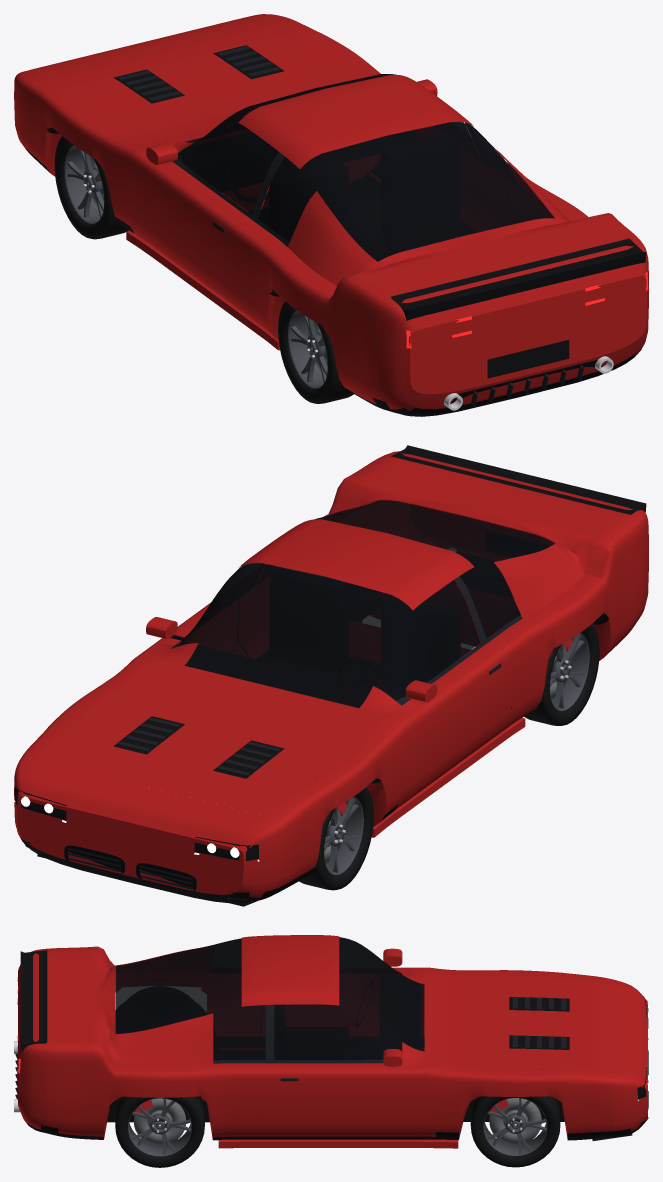
3 renders of one model, top to bottom at view 1: azimuth 30°, elevation 25°; view 2: azimuth 150°, elevation 25°; view 3: azimuth 270°, elevation 25°, orthographic. The views are drawn at different scales.
Visible parts, largest first — view 1: body, glass, hood, bumper_front, bumper_rear, spoiler, wheel_RL, wheel_FL, interior_low, skirts; view 2: body, glass, hood, bumper_front, wheel_RL, wheel_FL, spoiler, interior_low, bumper_rear, skirts; view 3: body, glass, hood, bumper_front, wheel_FR, wheel_RR, bumper_rear, skirts, spoiler, brake_FR, brake_RR, interior_low.
Part boxes in pixels (x1,y1,x2,y2): body: (18, 16, 638, 412); glass: (178, 74, 553, 261); hood: (40, 19, 362, 146); bumper_front: (14, 14, 646, 394); bumper_rear: (377, 238, 648, 416); spoiler: (391, 238, 646, 320); wheel_RL: (278, 301, 353, 403); wheel_FL: (54, 136, 128, 239); interior_low: (177, 129, 459, 259); skirts: (126, 172, 379, 350); body: (21, 456, 643, 894); glass: (177, 500, 554, 708); hood: (40, 659, 387, 815); bumper_front: (14, 503, 555, 906); wheel_RL: (524, 623, 599, 725); wheel_FL: (299, 787, 373, 890); spoiler: (391, 445, 646, 514); interior_low: (176, 566, 460, 706); bumper_rear: (378, 451, 648, 616); skirts: (371, 717, 525, 837); body: (46, 935, 613, 1140); glass: (116, 937, 424, 1060); hood: (424, 973, 613, 1072); bumper_front: (592, 980, 648, 1140); wheel_FR: (470, 1096, 560, 1167); wheel_RR: (115, 1096, 204, 1167); bumper_rear: (15, 948, 46, 1133); skirts: (218, 1048, 458, 1148); spoiler: (20, 950, 47, 1051); brake_FR: (489, 1098, 541, 1145); brake_RR: (134, 1098, 186, 1145); interior_low: (274, 975, 420, 1059).
Size of what is drawn, in the model's own units: 1.92 by 1.26 by 4.61.
